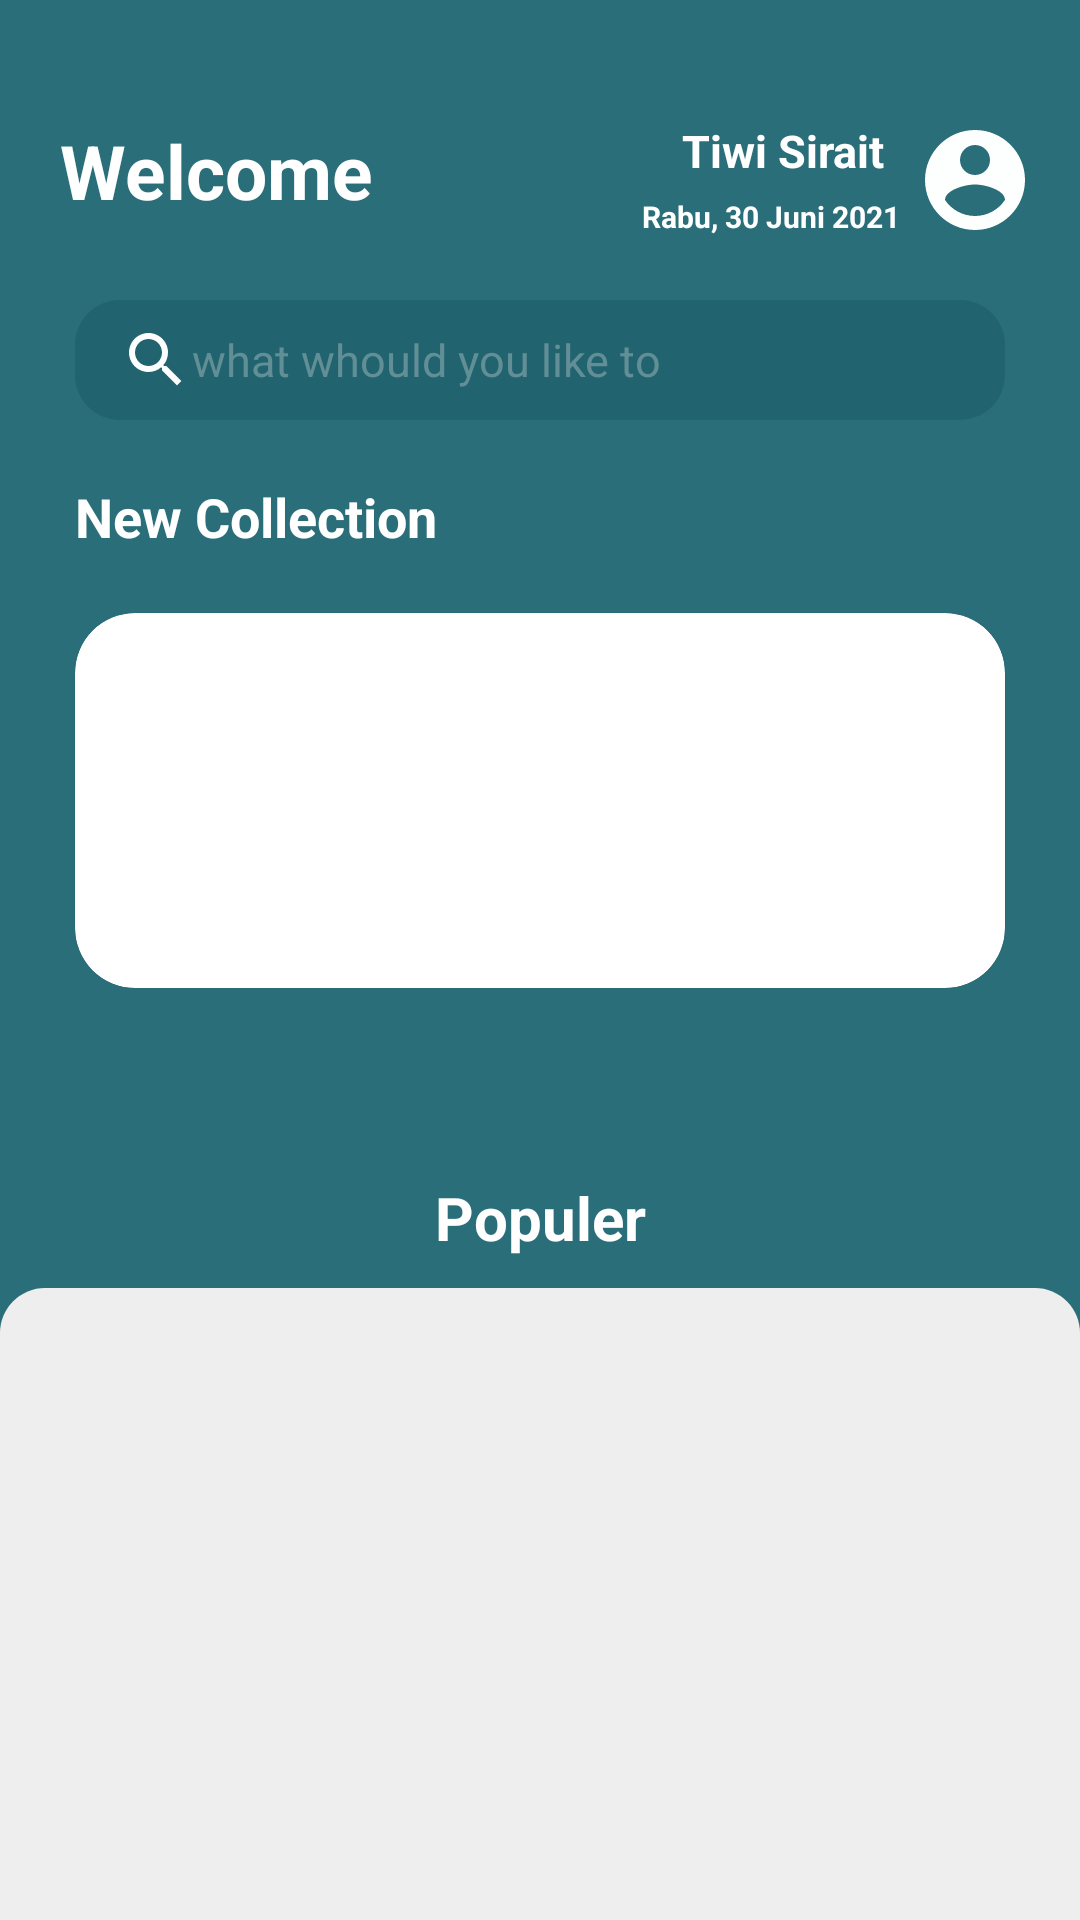

Screen size 1080×1920. Icon name, then its box in pixels as (x1=x1, y1=y1, x2=x2, y2=y2):
user: (x1=925, y1=130, x2=1025, y2=230)
